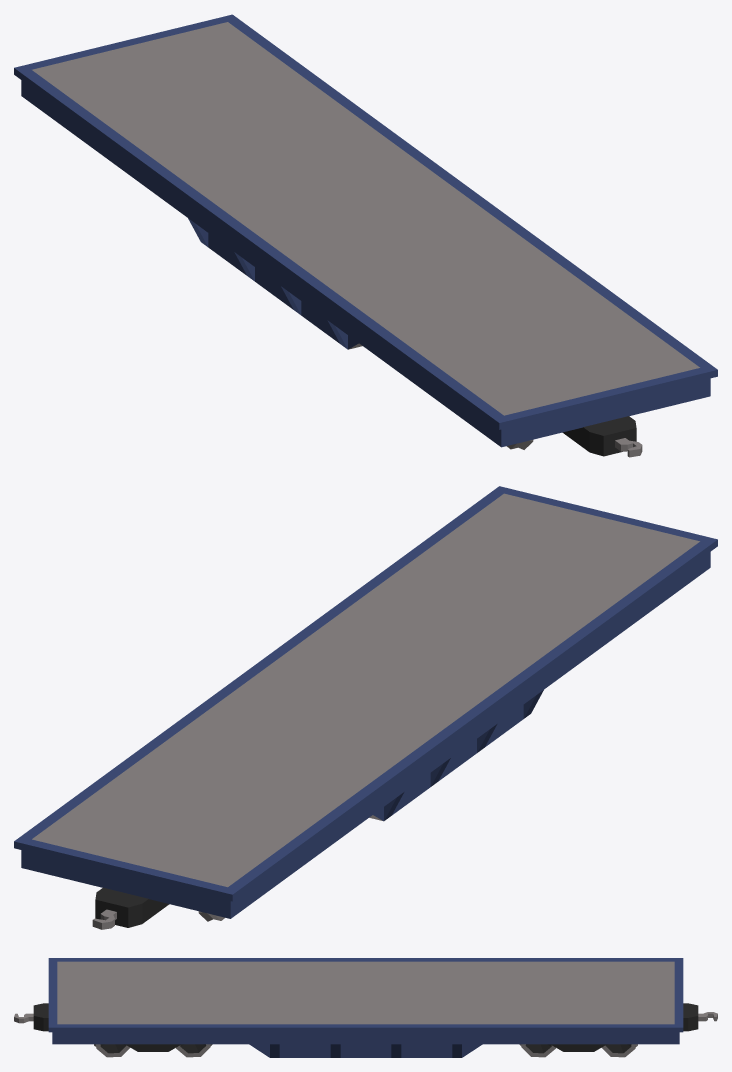
The model's file is vehicles_train-wagon-cargo.fbx.
The picture shows the model from 3 angles, top to bottom: view 1: azimuth 30°, elevation 25°; view 2: azimuth 150°, elevation 25°; view 3: azimuth 270°, elevation 25°; orthographic projection. The views are drawn at different scales.
Parts seen in each view (by area): view 1: train_wagon_cargo_base; view 2: train_wagon_cargo_base; view 3: train_wagon_cargo_base, train_wagon_cargo_wheel_B1, train_wagon_cargo_wheel_F2, train_wagon_cargo_wheel_B2, train_wagon_cargo_wheel_F1, train_wagon_cargo_frame_B, train_wagon_cargo_frame_F.
Part boxes in pixels (<box>): train_wagon_cargo_base: <box>14,14,717,457</box>; train_wagon_cargo_base: <box>14,486,717,929</box>; train_wagon_cargo_base: <box>14,958,717,1057</box>; train_wagon_cargo_wheel_B1: <box>519,1044,555,1057</box>; train_wagon_cargo_wheel_F2: <box>176,1044,212,1057</box>; train_wagon_cargo_wheel_B2: <box>601,1044,637,1057</box>; train_wagon_cargo_wheel_F1: <box>94,1044,130,1057</box>; train_wagon_cargo_frame_B: <box>550,1044,606,1051</box>; train_wagon_cargo_frame_F: <box>125,1044,181,1051</box>.
Size of the model in its own units: 46.87 by 15.54 by 200.
